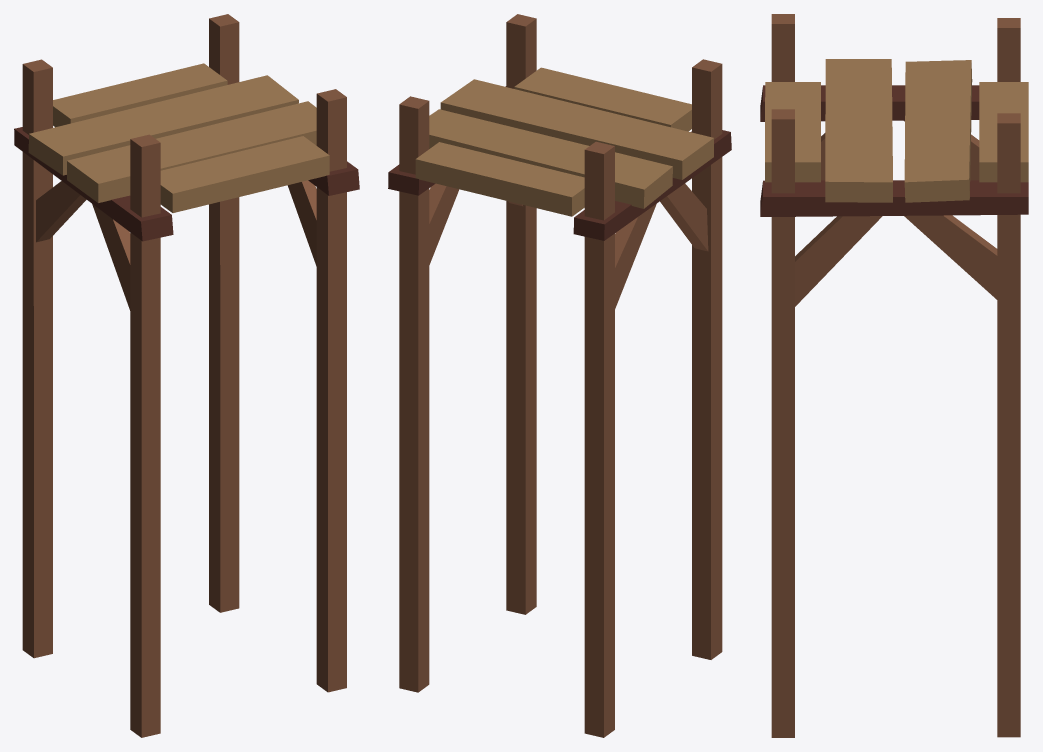
File: Dock_01.fbx
3 views of the same model, side by side, from view 1: azimuth 30°, elevation 25°; view 2: azimuth 150°, elevation 25°; view 3: azimuth 270°, elevation 25° (orthographic). The views are drawn at different scales.
Visible parts, largest first — view 1: Dock_01; view 2: Dock_01; view 3: Dock_01.
Part boxes in pixels (x1=…): Dock_01: x1=14, y1=14, x2=359, y2=737; Dock_01: x1=388, y1=14, x2=731, y2=737; Dock_01: x1=760, y1=14, x2=1028, y2=737.
Size of the model in its own units: 215 by 503 by 198.
